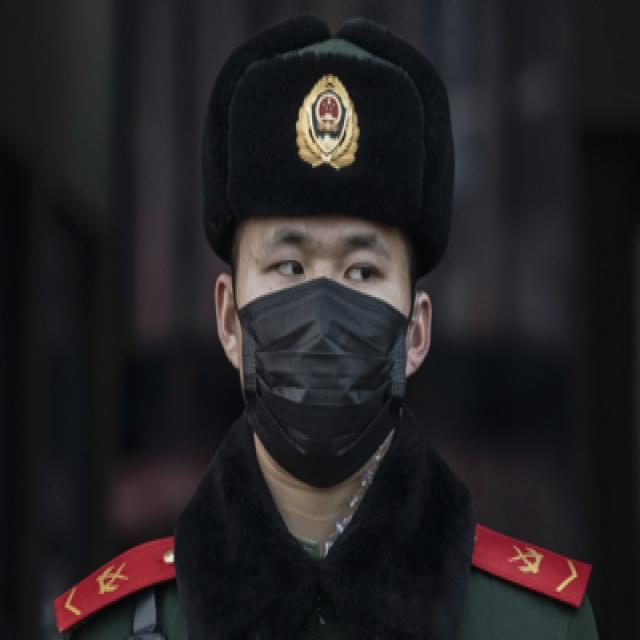mask: (233, 221, 412, 483)
